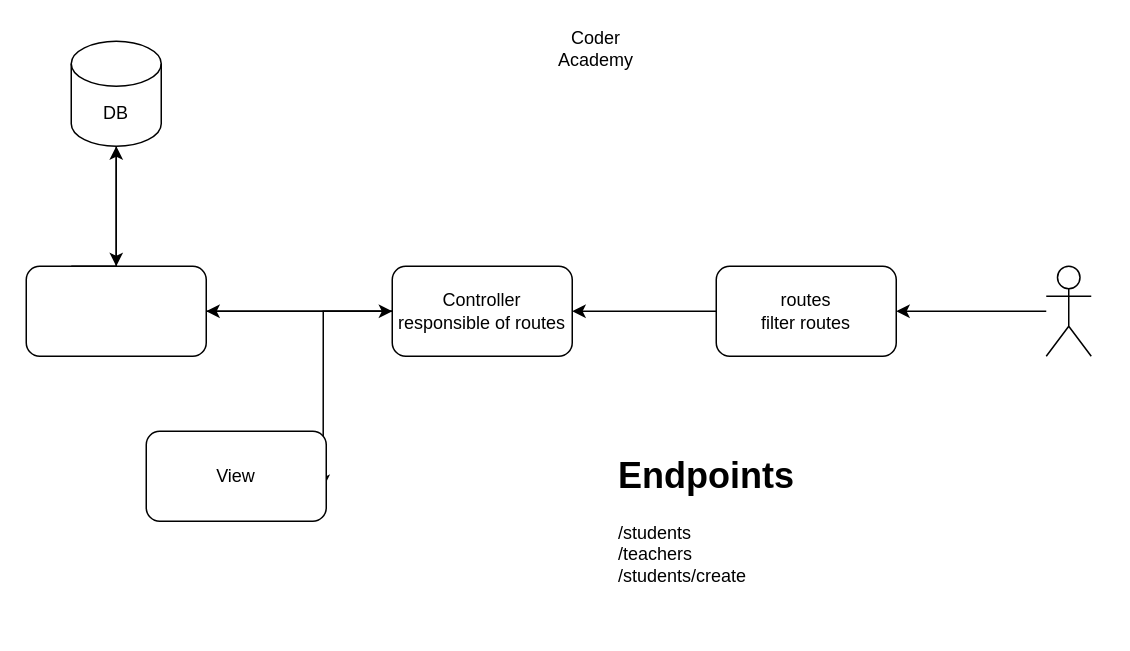
This 1130x651 diagram has some shape labels left out. The shapes that lost their labels are listed below. From the top down, each one's box as (x1, y1, x2, y2) in pixels, then its label:
(25, 265, 206, 356): Model
(1045, 265, 1091, 356): Students
